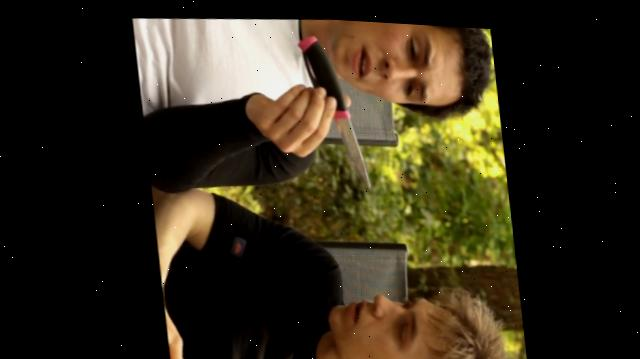pocket-knife: (286, 21, 379, 193)
